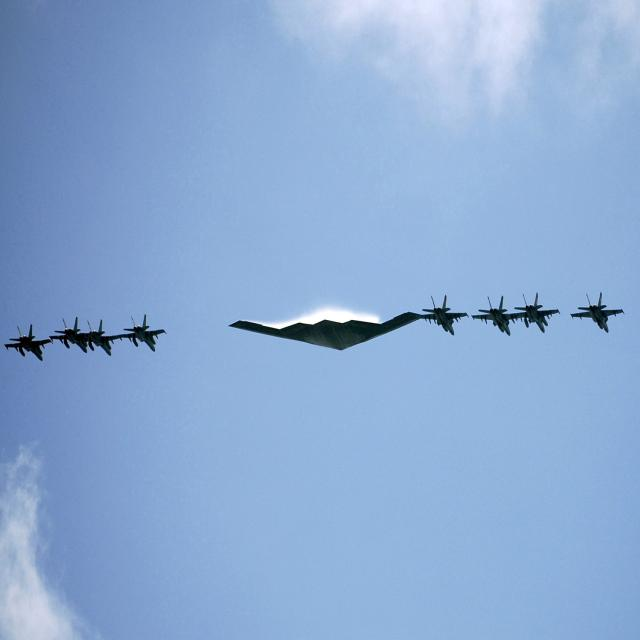MIL_Plane: (292, 311, 359, 351), (570, 292, 625, 334), (414, 294, 469, 336), (471, 295, 523, 336), (514, 292, 560, 334), (4, 324, 53, 362), (119, 314, 167, 352), (48, 317, 97, 353), (84, 318, 122, 356)
